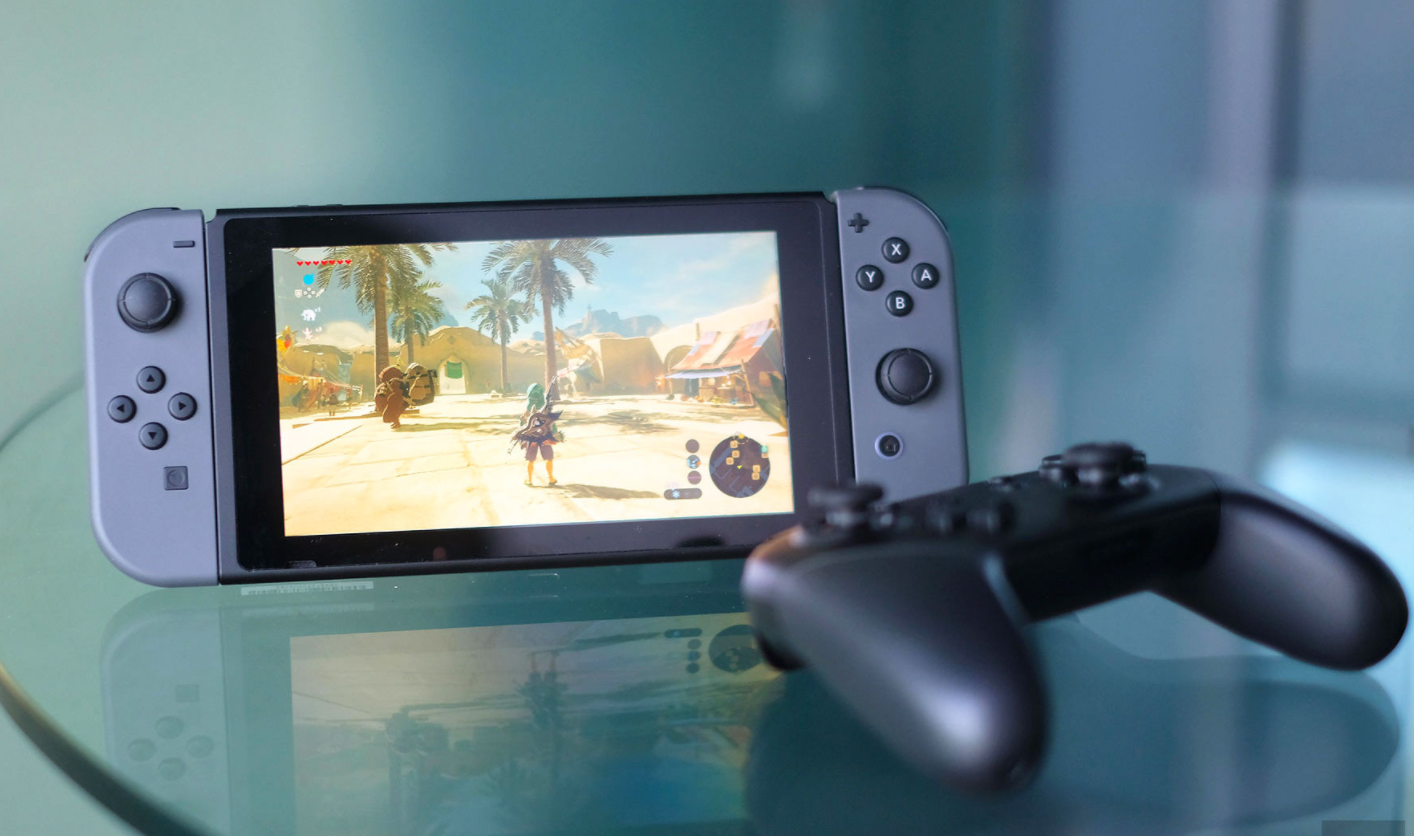gamingconsole: (740, 443, 1413, 778)
